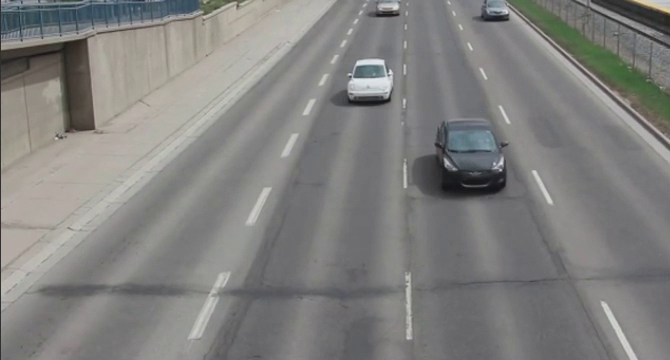car: (430, 120, 511, 196), (346, 47, 398, 108), (483, 2, 511, 18), (372, 1, 400, 17)
